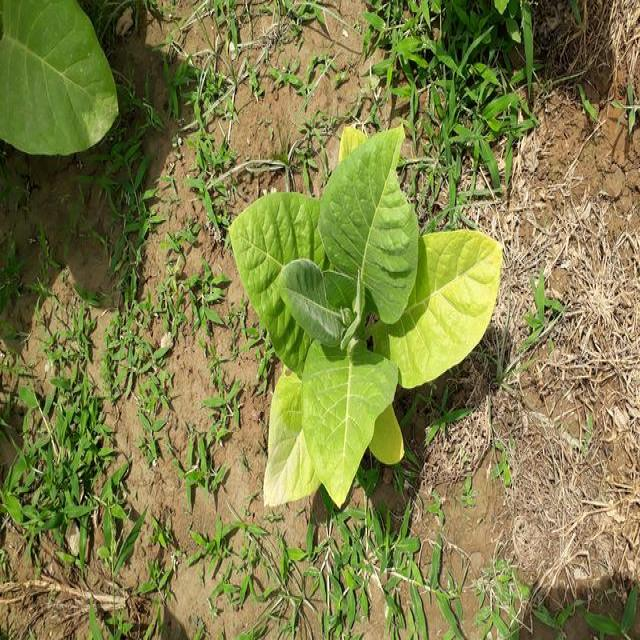crop: (233, 120, 503, 517)
